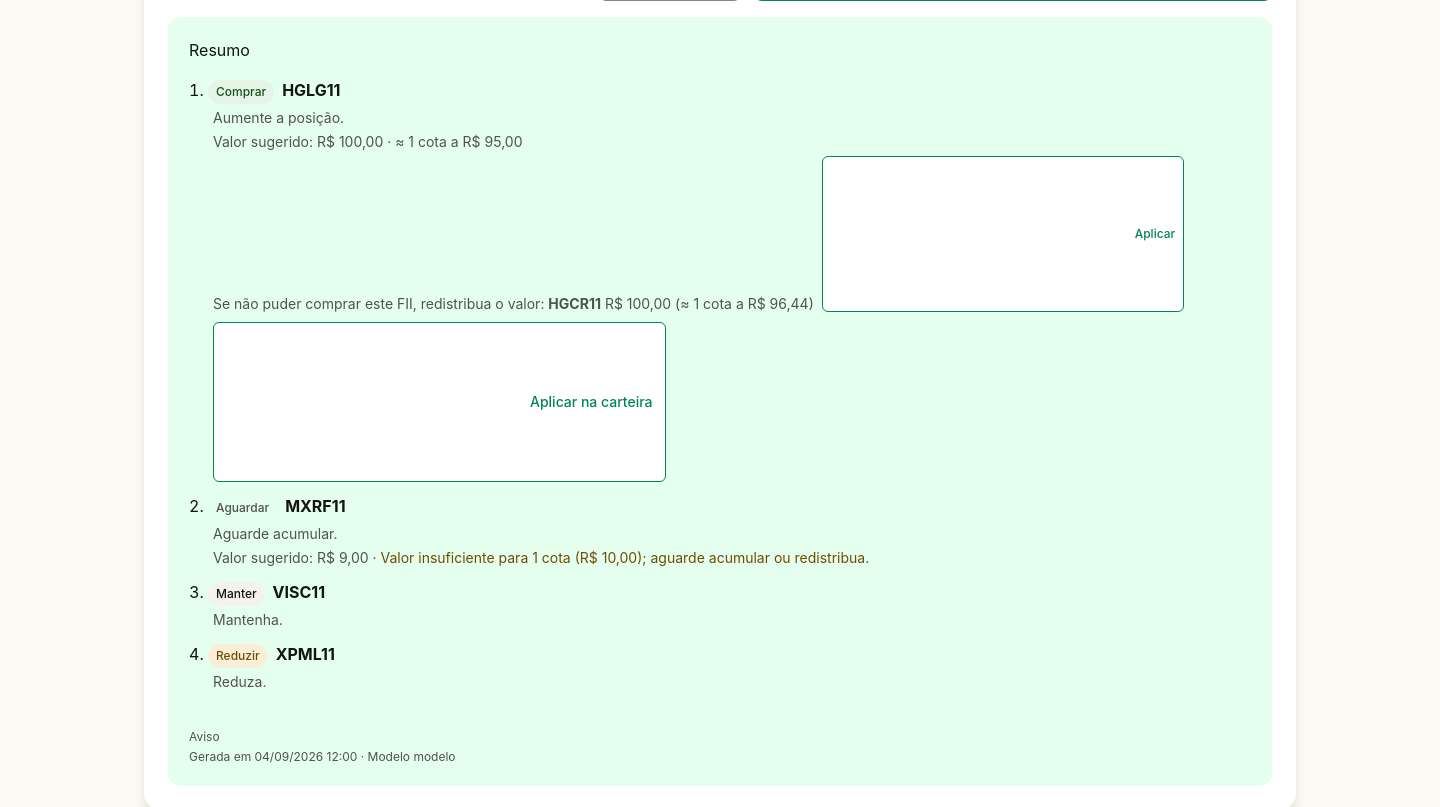
RecommendedWalletComponent › aplicar na carteira › deve mostrar o erro da API no modal sem marcar o item
(page scrolled)
Click the button "Aplicar na carteira" at [439, 402], box [213, 322, 666, 482]
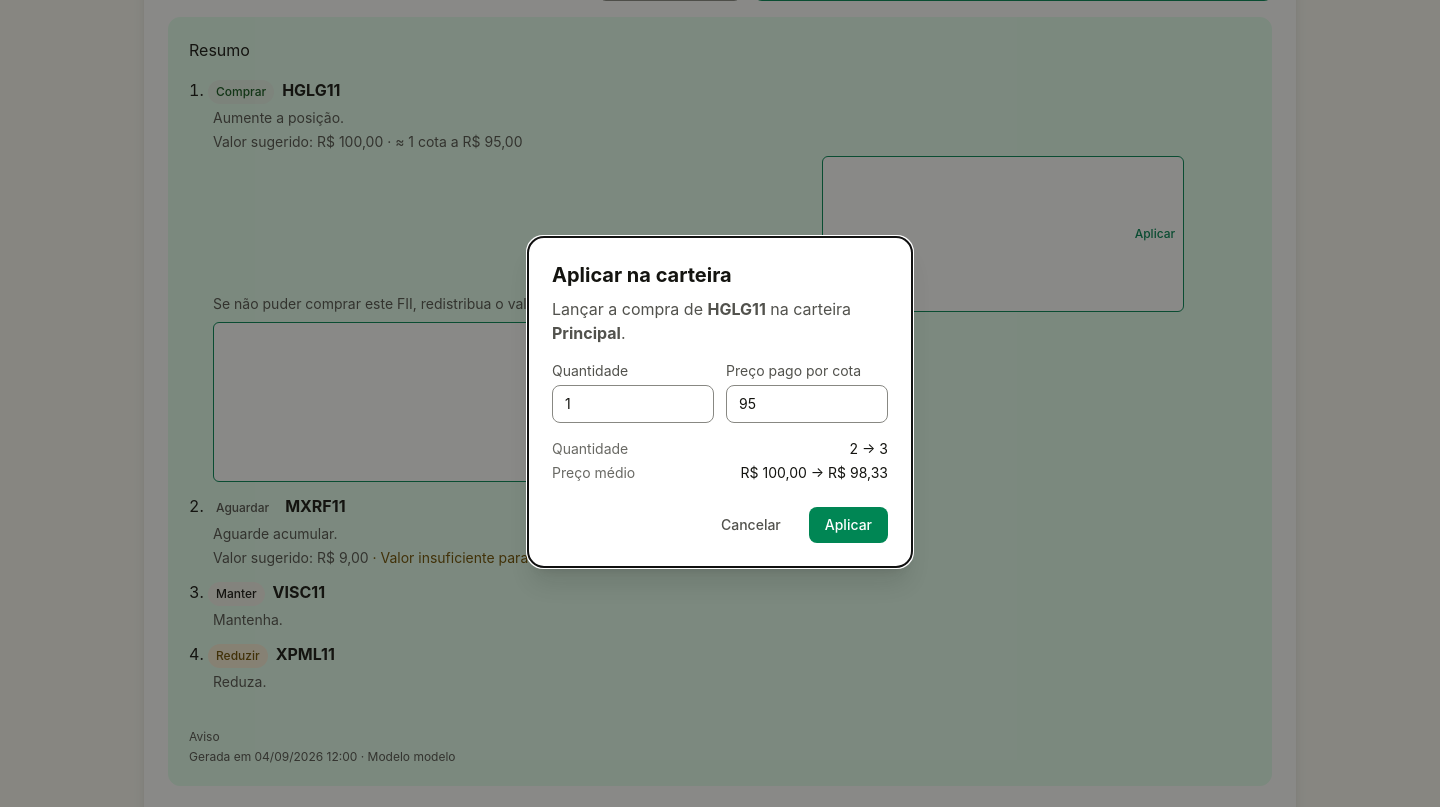
Click the button with test id "confirm-dialog-confirm" at [848, 525], box [809, 507, 888, 543]
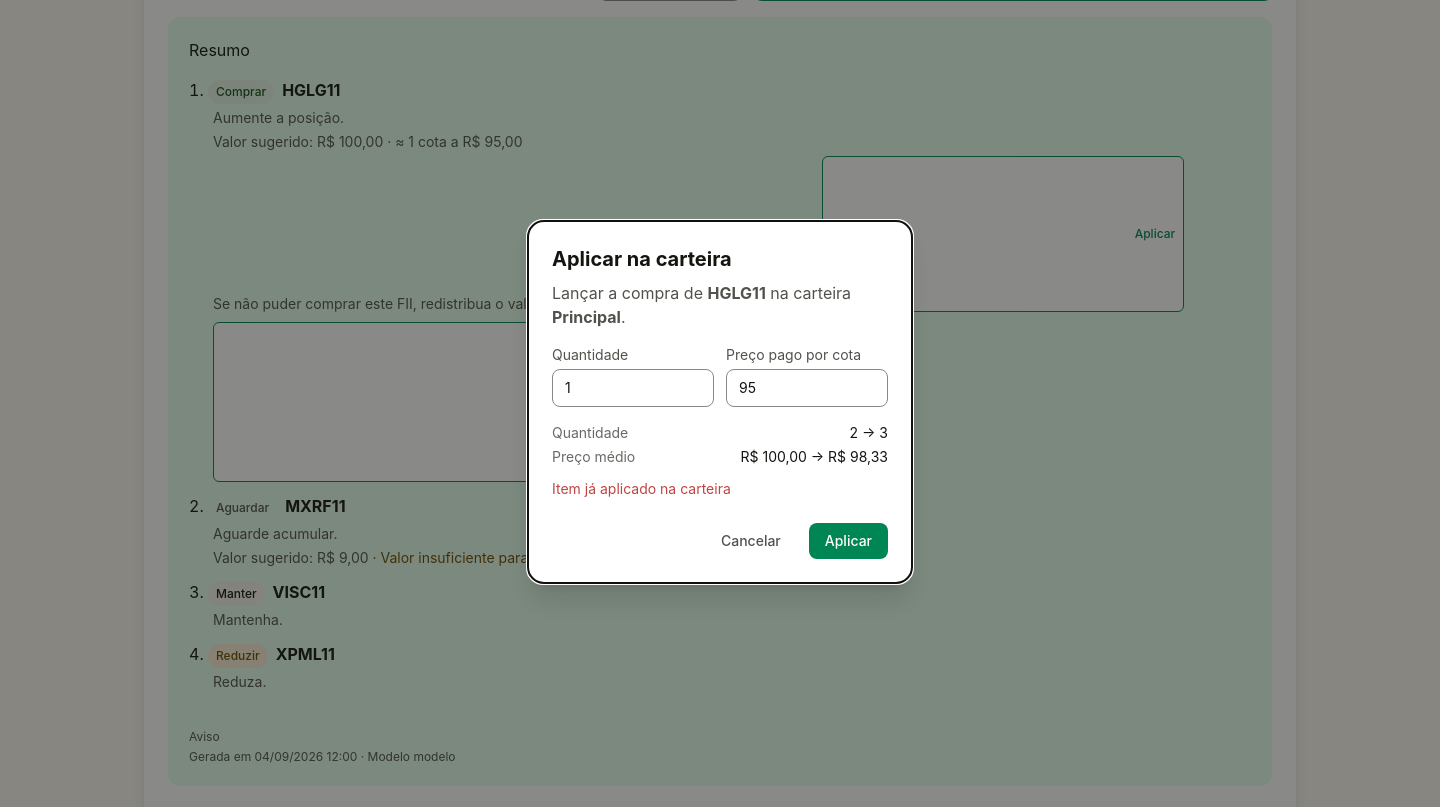
Expected: the message with test id "apply-error" reads "Item já aplicado na carteira", [552, 480, 731, 497]
